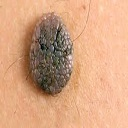Melanoma: (31, 13, 73, 94)
